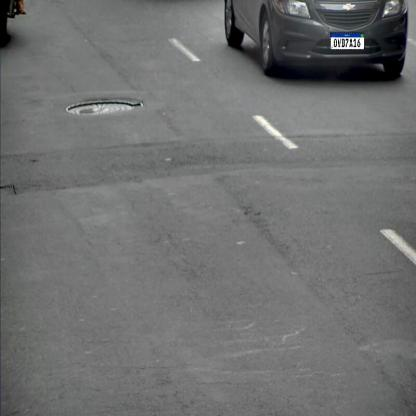PlacaM: (330, 33, 365, 50)
